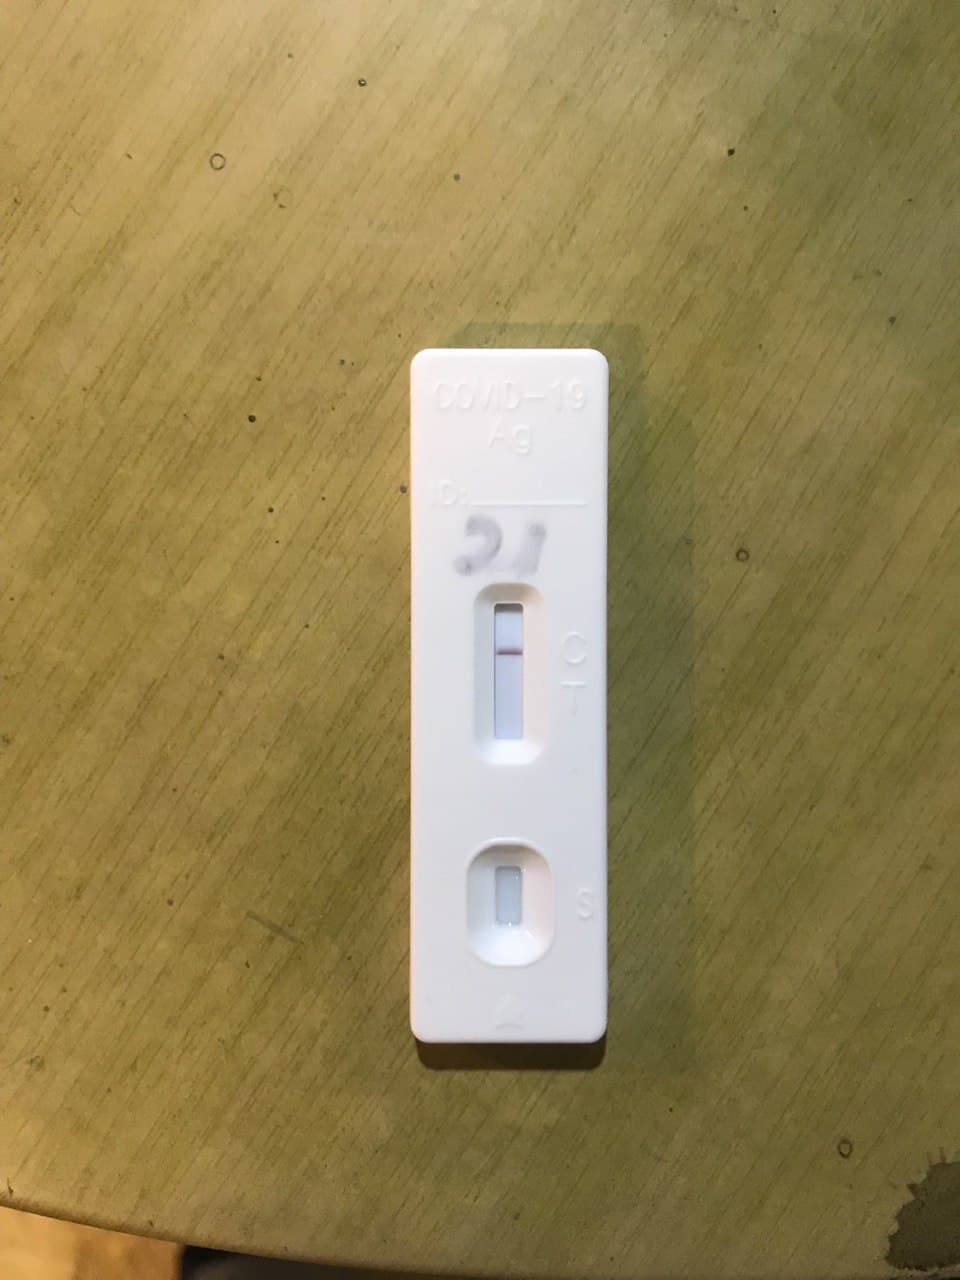rapid_test: (408, 351, 610, 1037)
